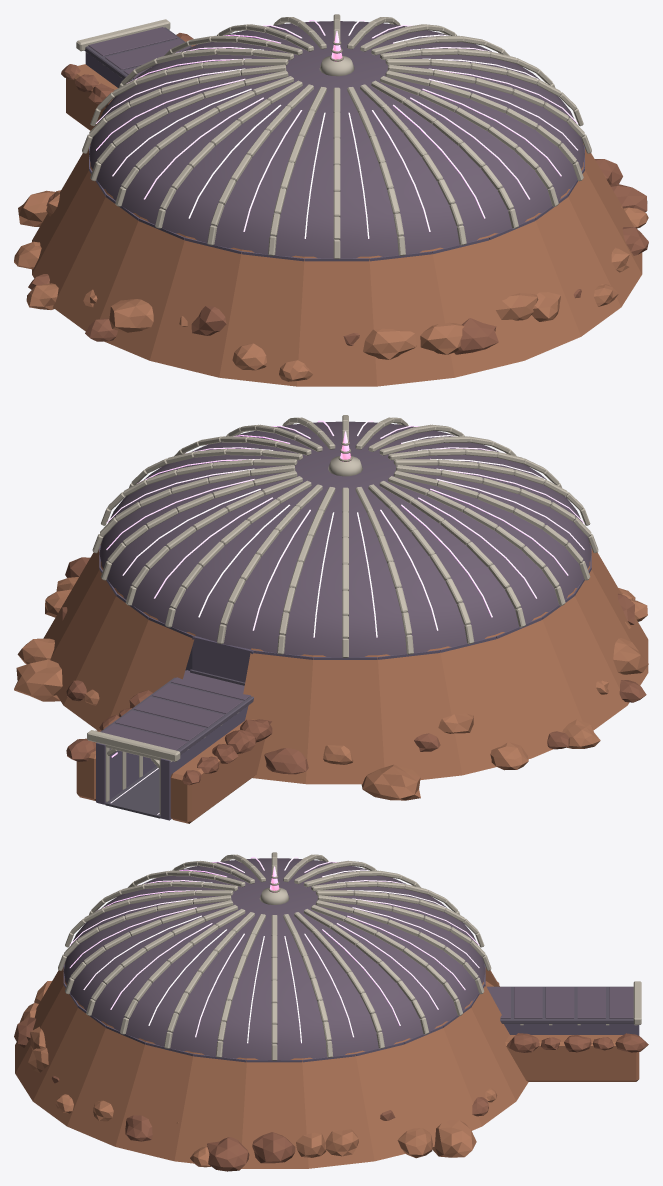
The model's file is mars_hq.glb.
3 renders of one model, top to bottom at view 1: azimuth 30°, elevation 25°; view 2: azimuth 150°, elevation 25°; view 3: azimuth 270°, elevation 25°, orthographic. The views are drawn at different scales.
Parts seen in each view (by area): view 1: VelinMars; view 2: VelinMars; view 3: VelinMars.
Boxes of the visible parts, <box> form: VelinMars: <box>14,14,648,386</box>; VelinMars: <box>14,415,648,823</box>; VelinMars: <box>14,852,648,1171</box>.
Size of what is drawn, in the model's own units: 34.87 by 13.81 by 40.04.
